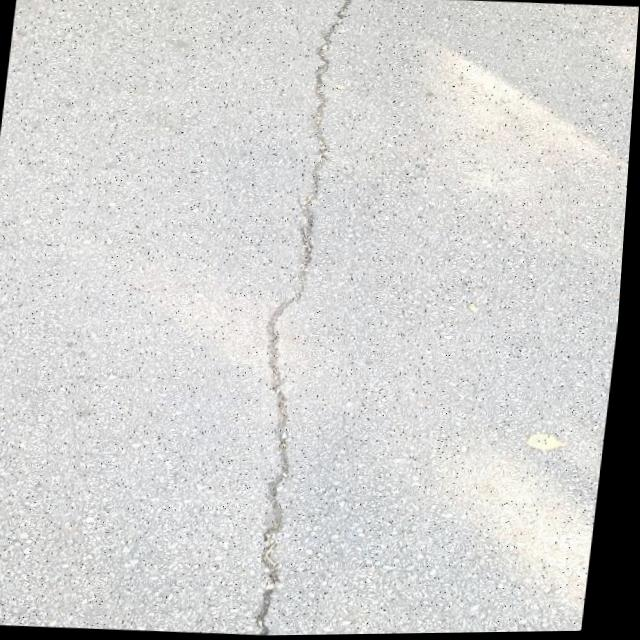Crack: (219, 0, 370, 637)
